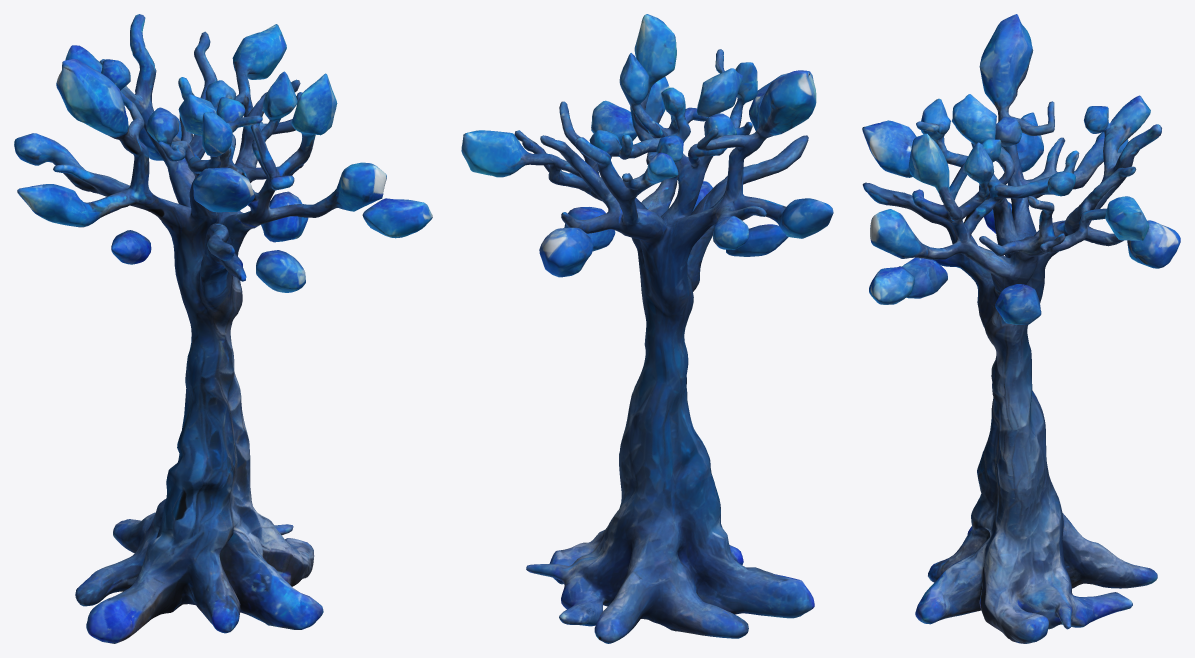
Rendered from AI_CrystallineTree.fbx.
3 renders of one model, left to right at view 1: azimuth 30°, elevation 25°; view 2: azimuth 150°, elevation 25°; view 3: azimuth 270°, elevation 25°, orthographic. The views are drawn at different scales.
Parts seen in each view (by area): view 1: Mesh1.0; view 2: Mesh1.0; view 3: Mesh1.0.
Boxes of the visible parts, x1,y1,x2,y2 form: Mesh1.0: (14, 14, 432, 643); Mesh1.0: (461, 14, 833, 643); Mesh1.0: (862, 14, 1180, 643).
Bounding box in the file's own units: 119 × 200 × 109.
1 material, 1 textured.
